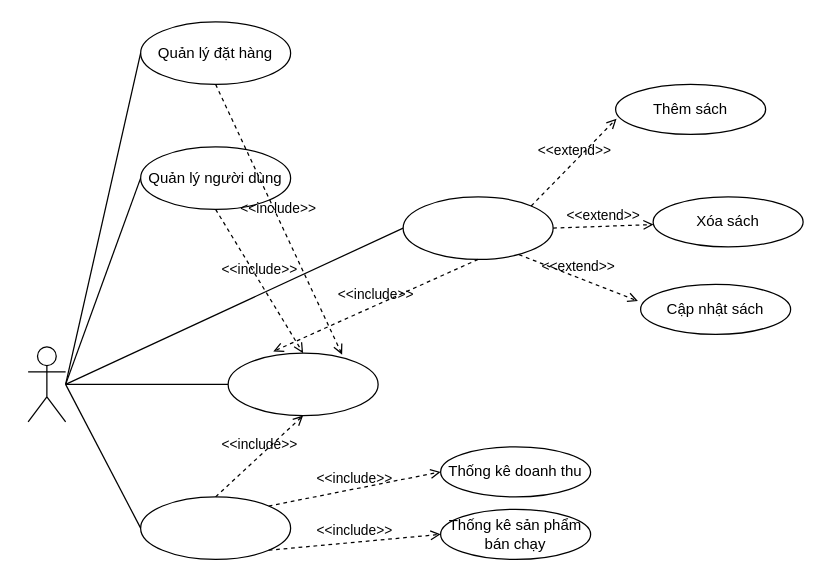
The diagram is 825 pixels wide and 583 high, and some of its shapes have lost their labels. The shapes that lost their labels are listed below. From the top down, each one's box as (x1, y1, x2, y2) in pixels, then its label:
(402, 196, 553, 259): Quản lý sách
(27, 346, 66, 422): Quản lý
(227, 352, 378, 416): Đăng nhập
(139, 496, 291, 559): Thống kê
